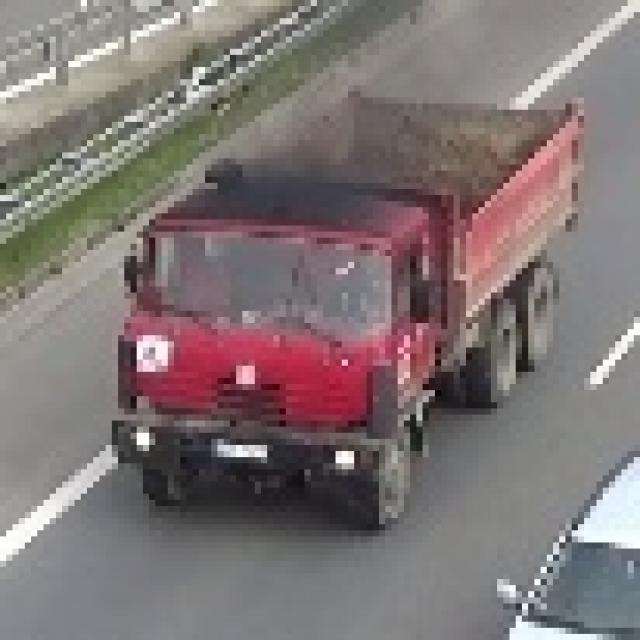truck: (124, 80, 596, 536)
